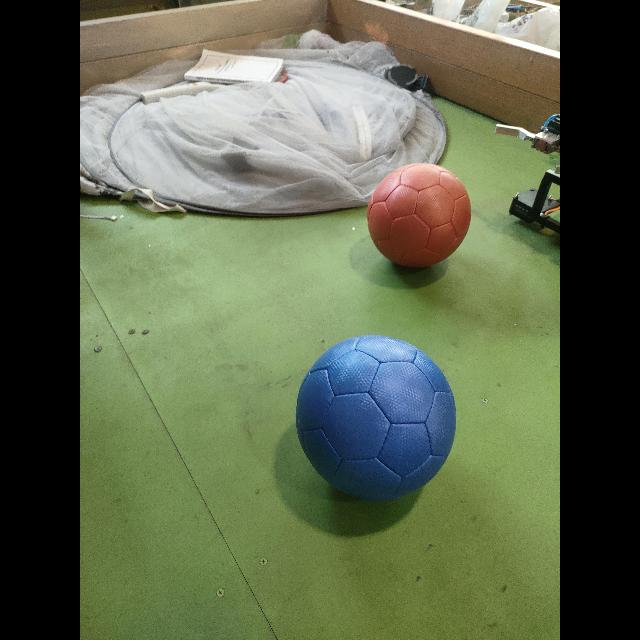B: (296, 335, 456, 500)
R: (368, 164, 470, 268)
